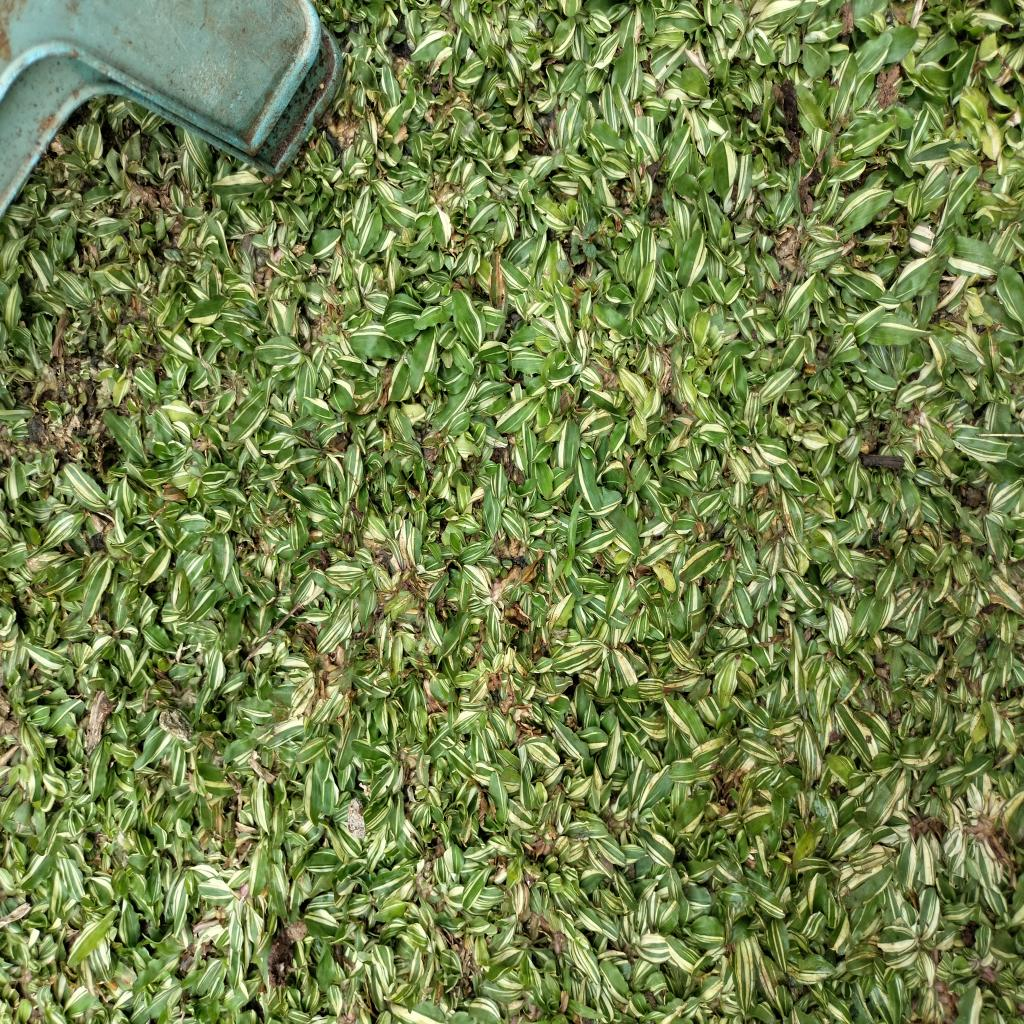rambat atas: (547, 490, 585, 595)
tunggang tengah: (559, 215, 617, 280)
